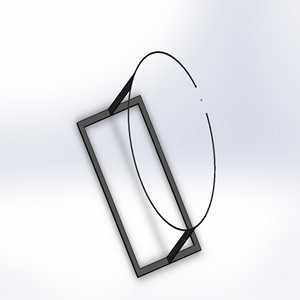circle: (75, 48, 219, 278)
